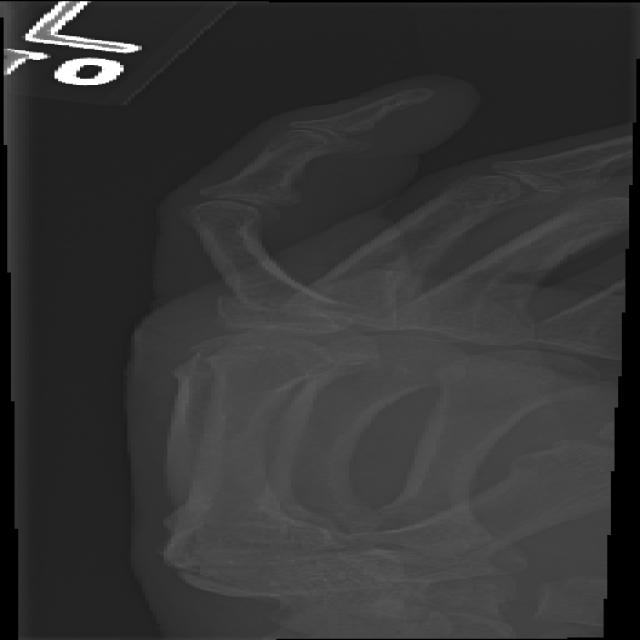fingers positive: (182, 276, 375, 338)
